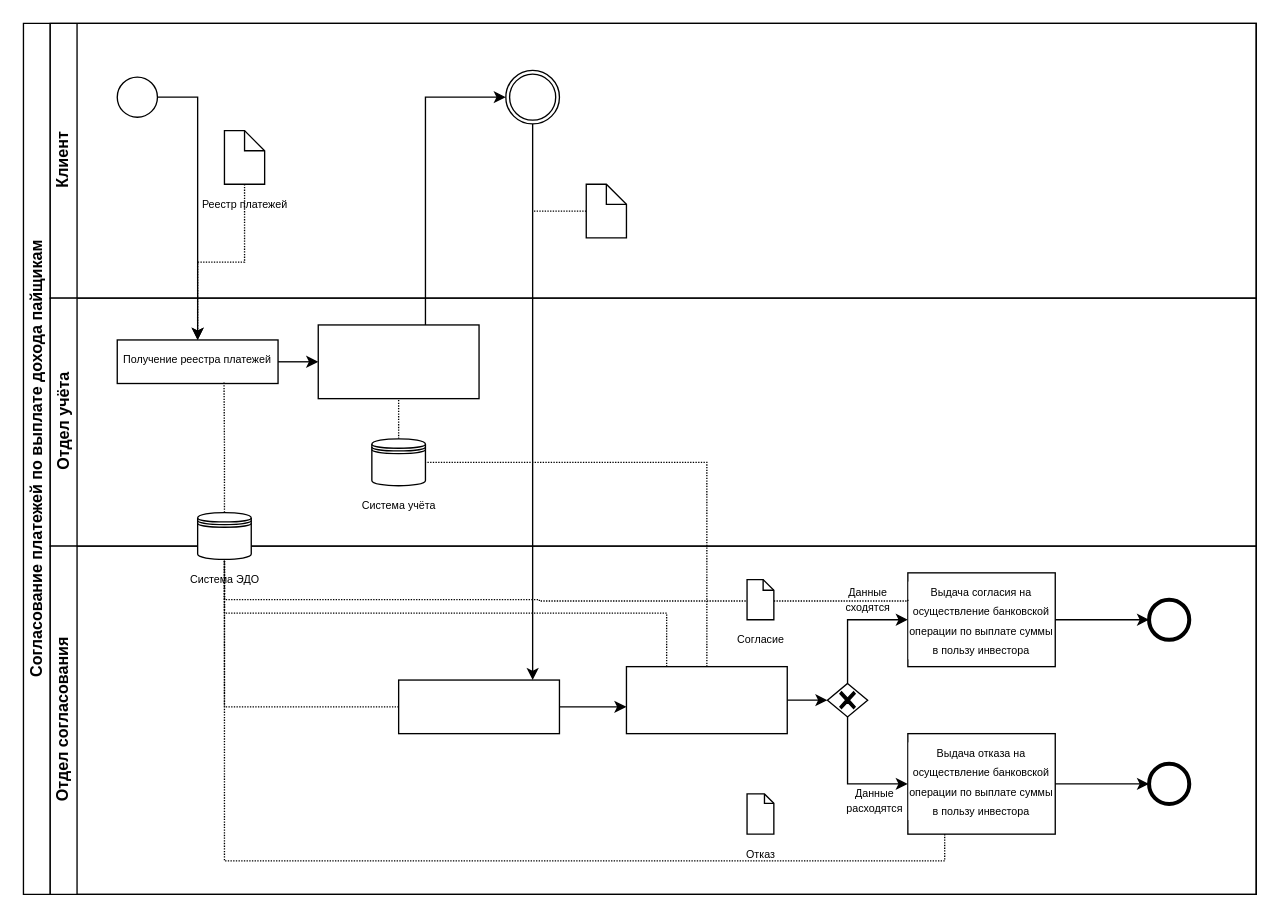
The diagram is 1280 pixels wide and 918 high, and some of its shapes have lost their labels. The centre of each missing label's shape, as x and y in pixels:
Направление платежных поручений на согласование выплаты: the point at 532,96
Платежные поручения: the point at 605,210
Получение платежных поручений: the point at 478,706
Проведение бухгалтерских проводок по начислению дохода: the point at 398,361
Решение о выплате дохода инвесторам: the point at 136,96
Сверка данных в платежных поручения с данными системы учёта: the point at 706,699
